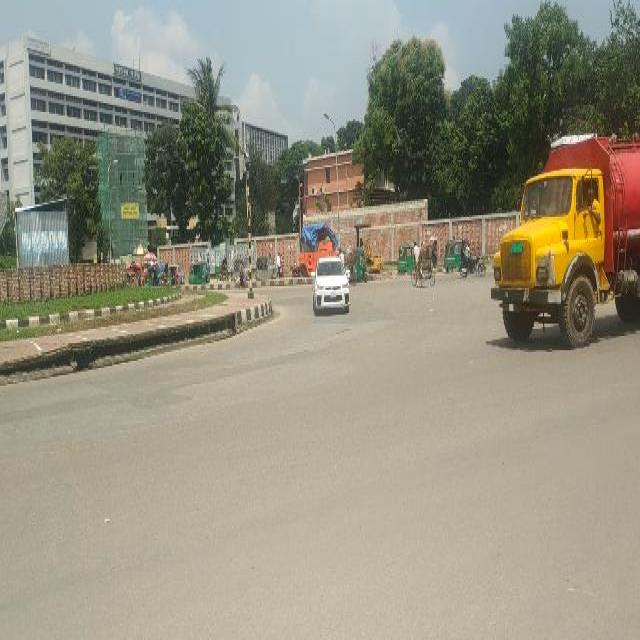bike: (460, 254, 487, 279)
vehicle: (491, 122, 640, 356), (311, 257, 351, 314), (412, 243, 437, 289), (444, 237, 460, 273), (188, 259, 211, 284), (256, 257, 277, 282), (398, 245, 414, 277), (217, 257, 237, 282), (161, 262, 179, 288), (358, 248, 370, 284), (347, 249, 358, 286)
